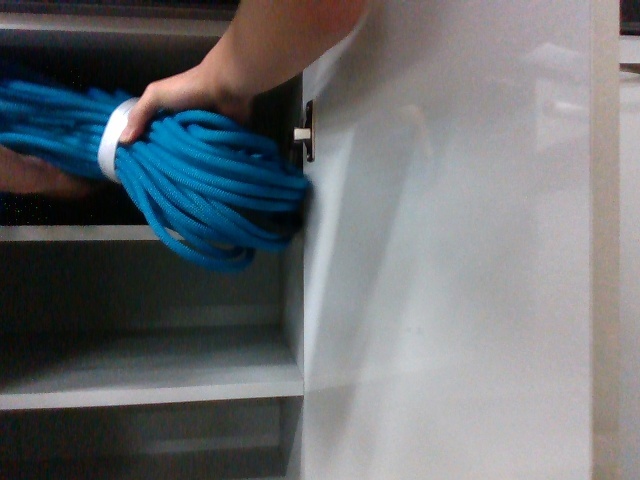rope: (2, 73, 319, 275)
